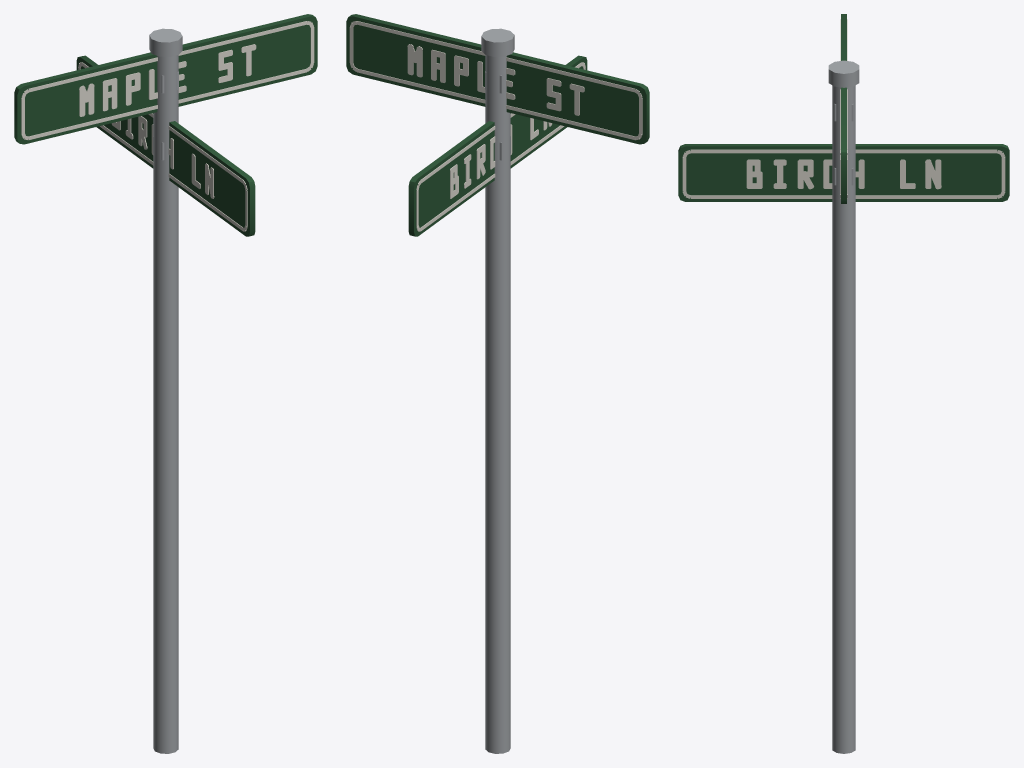
File: sign_street.glb
3 renders of one model, left to right at view 1: azimuth 30°, elevation 25°; view 2: azimuth 150°, elevation 25°; view 3: azimuth 270°, elevation 25°, orthographic. The views are drawn at different scales.
Parts seen in each view (by area): view 1: sign_street; view 2: sign_street; view 3: sign_street.
Part boxes in pixels (x1,y1,x2,y2): sign_street: (14, 14, 317, 753); sign_street: (346, 14, 649, 753); sign_street: (678, 14, 1009, 753).
Bounding box in the file's own units: 5.4 × 12.25 × 5.4.
